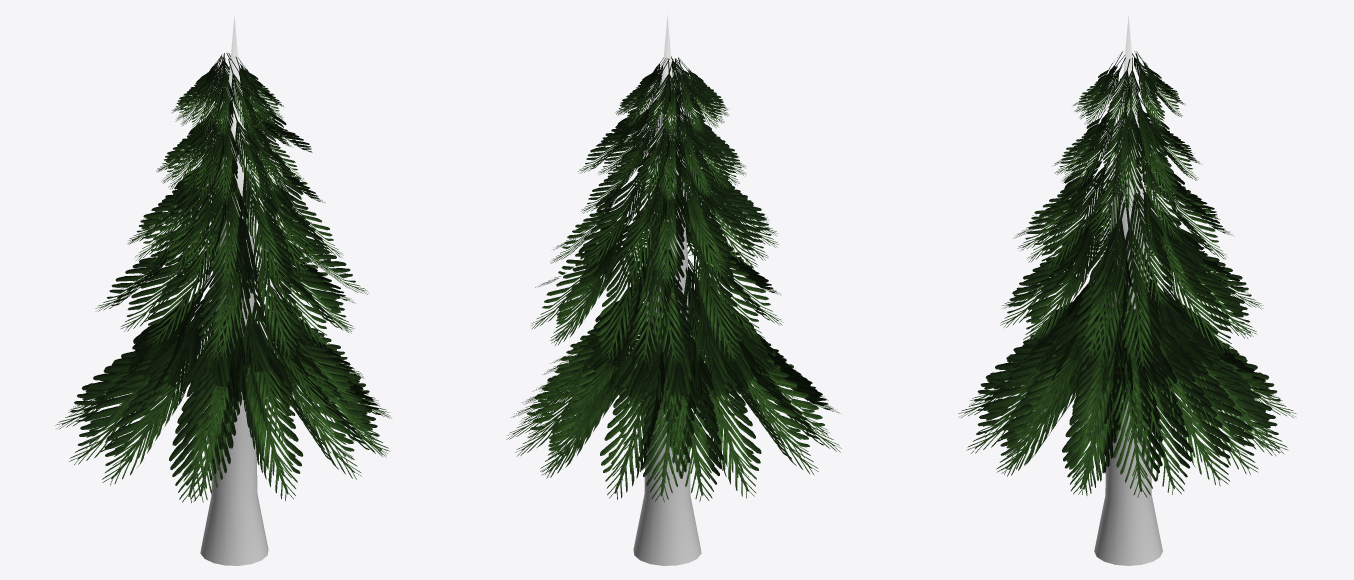
File: PinheiroJotunn.fbx
3 views of the same model, side by side, from view 1: azimuth 30°, elevation 25°; view 2: azimuth 150°, elevation 25°; view 3: azimuth 270°, elevation 25° (orthographic).
Visible parts, largest first — view 1: Pinheiro.405; view 2: Pinheiro.405; view 3: Pinheiro.405.
Part boxes in pixels (x1=…): Pinheiro.405: x1=55, y1=14, x2=391, y2=565; Pinheiro.405: x1=506, y1=14, x2=841, y2=565; Pinheiro.405: x1=958, y1=15, x2=1296, y2=565.
Size of the model in its own units: 1070 by 1501 by 1074.
2 materials, 1 textured.
